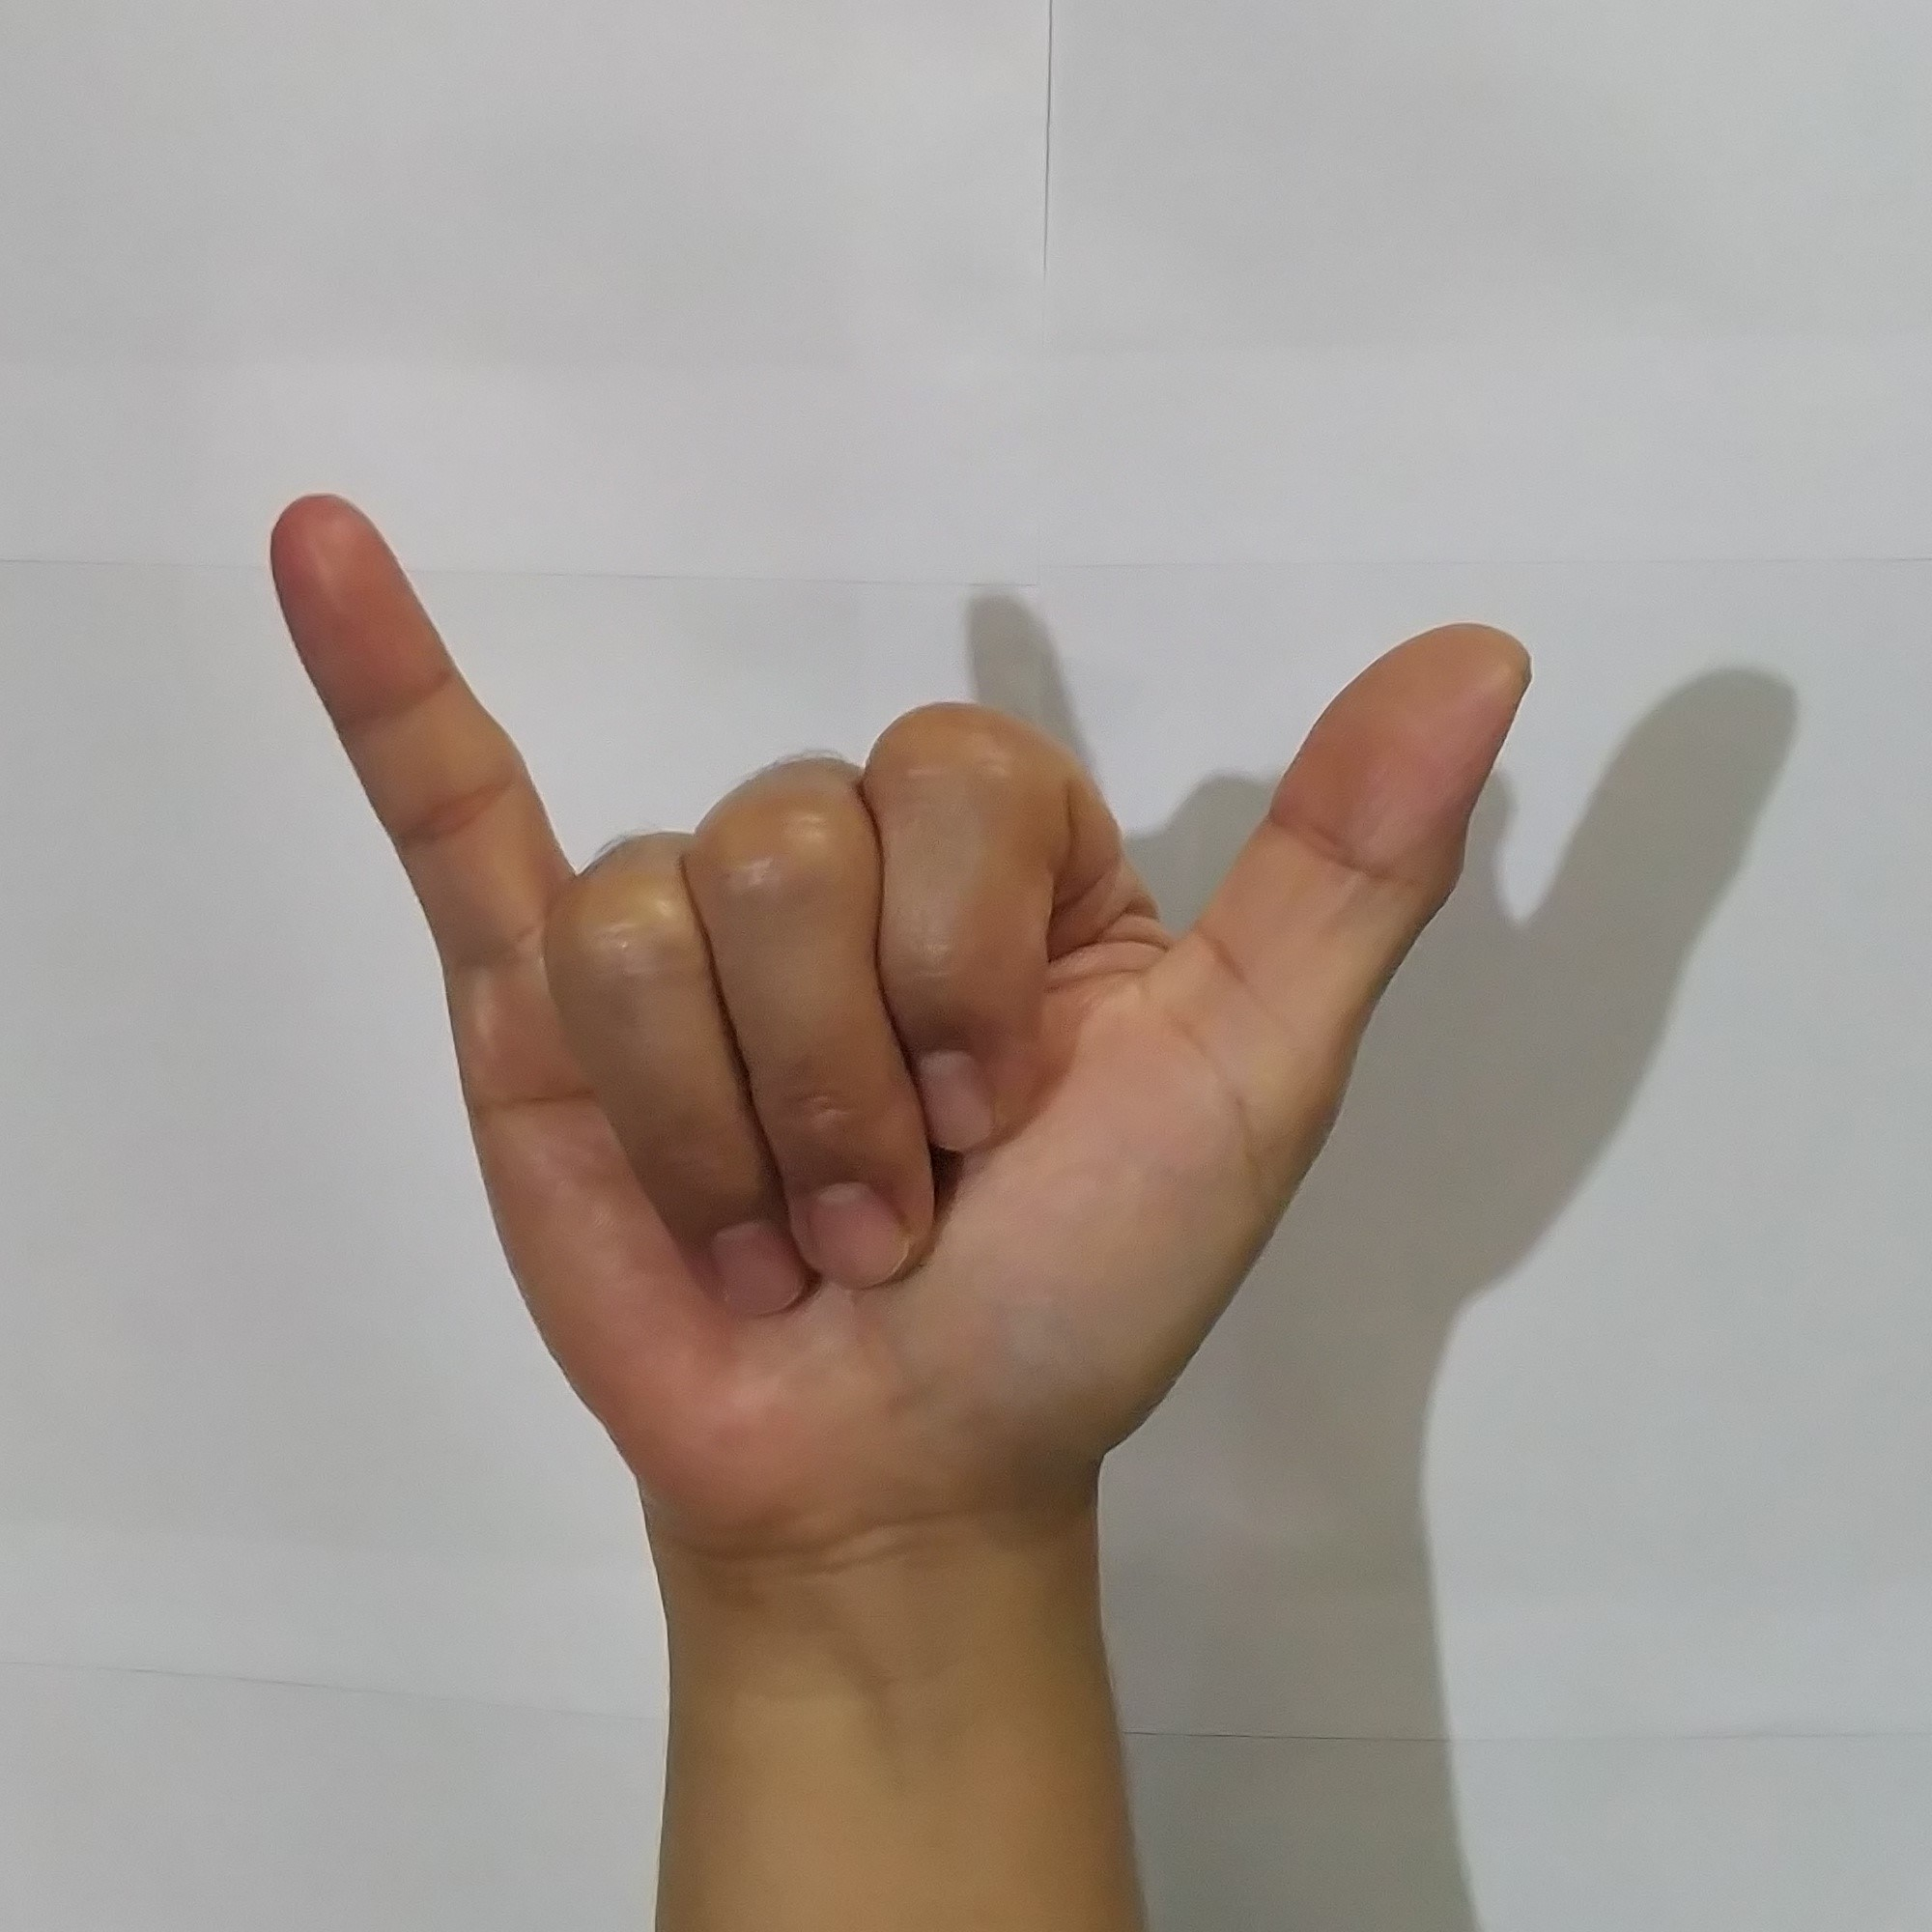Y: (237, 467, 1557, 1534)
